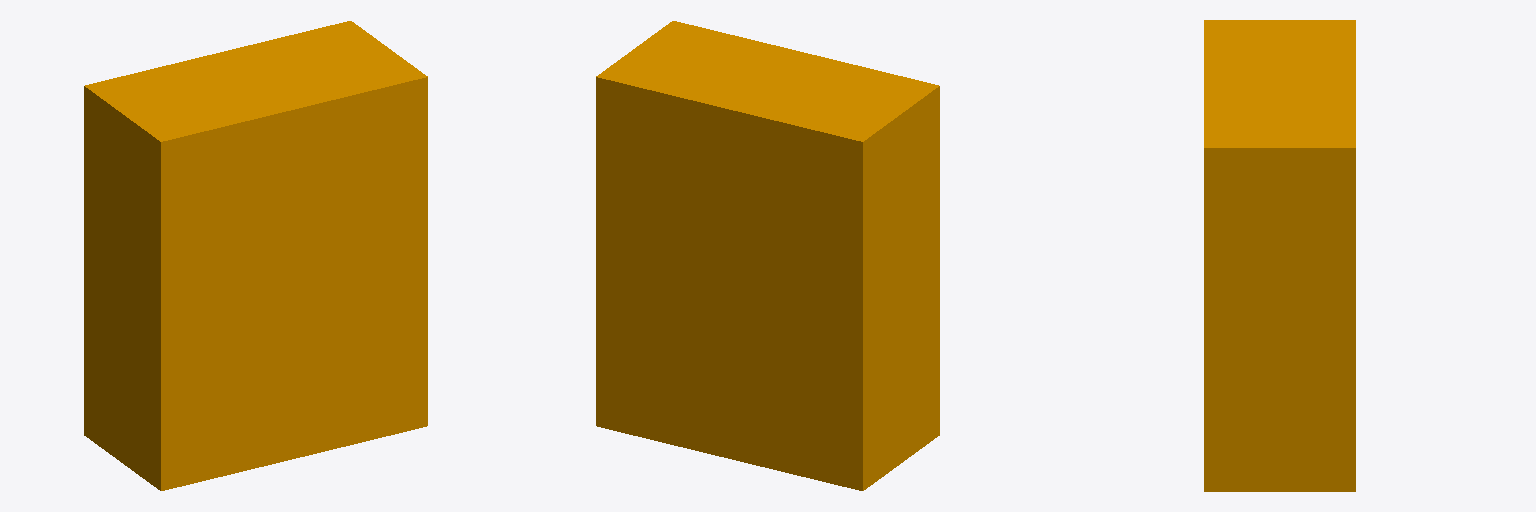
The robot description file, URDF, robot "yellow_box_small":
<?xml version="1.0"?>

<robot name="yellow_box_small">
    
  <link name="yellow_box_small">
    <inertial>
      <origin xyz="0 0 0" />
      <mass value="0.01" />
      <inertia  ixx="0.0" ixy="0.0"  ixz="0.0"  iyy="0.0"  iyz="0.0"  izz="0.0" />
    </inertial>
    <visual>
      <origin xyz="0 0 0"/>
      <geometry>
        <box size="0.08 0.04 0.1" />
      </geometry>
    </visual>
    <collision>
      <origin xyz="0 0 0"/>
      <geometry>
        <box size="0.05 0.07 0.1" />
      </geometry>
    </collision>
  </link>
  
  <gazebo reference="yellow_box_small">
    <material>Gazebo/Yellow</material>
  </gazebo>
  
</robot>

--- What the picture shows (computed from the rendered views, not written in the file) ---
Views: 3 orthographic renders of the robot side by side, from view 1: azimuth 30°, elevation 25°; view 2: azimuth 150°, elevation 25°; view 3: azimuth 270°, elevation 25°.
Model yellow_box_small with 1 links and 0 joints (none), rooted at yellow_box_small, posed every joint at zero.
Links seen in each view (by area): view 1: yellow_box_small; view 2: yellow_box_small; view 3: yellow_box_small.
Boxes of the visible links, bbox=[...] form: yellow_box_small: bbox=[84, 21, 427, 490]; yellow_box_small: bbox=[596, 21, 939, 490]; yellow_box_small: bbox=[1204, 20, 1355, 491].
Size in the robot's own frame: 0.08 by 0.04 by 0.1 metres.
Geometry: primitives only (box / cylinder / sphere), no mesh files.